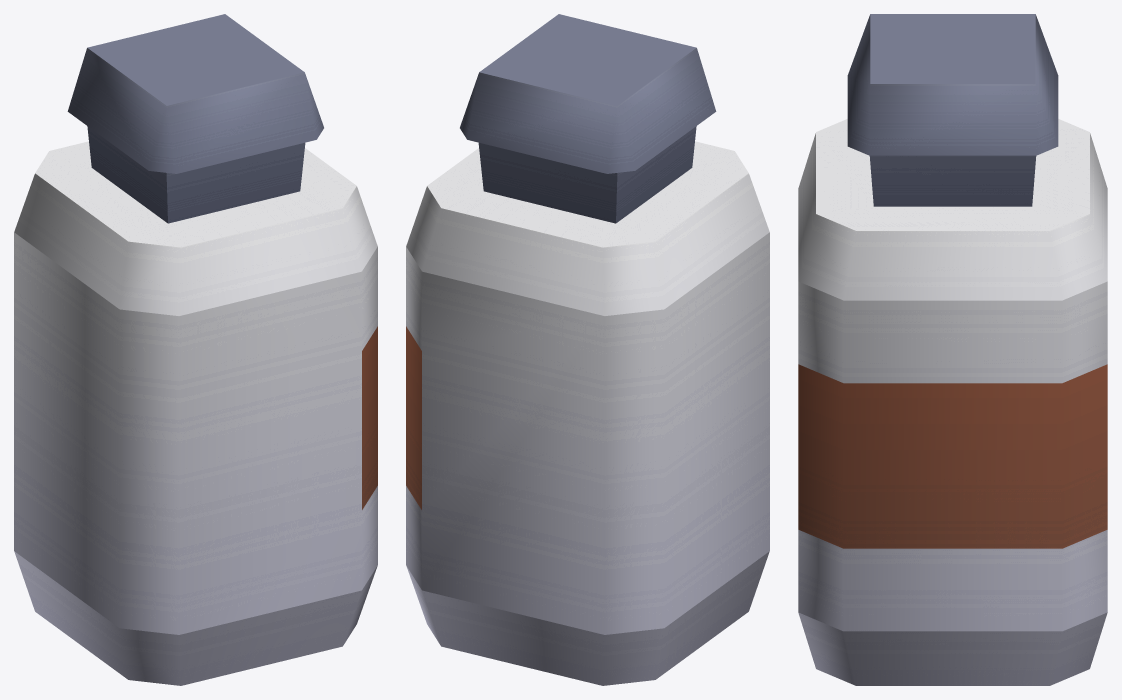
File: shaker-pepper.glb
The picture shows the model from 3 angles, left to right: view 1: azimuth 30°, elevation 25°; view 2: azimuth 150°, elevation 25°; view 3: azimuth 270°, elevation 25°; orthographic projection. The views are drawn at different scales.
Parts seen in each view (by area): view 1: shaker-pepper; view 2: shaker-pepper; view 3: shaker-pepper.
Boxes of the visible parts, bbox=[...] form: shaker-pepper: bbox=[14, 14, 377, 685]; shaker-pepper: bbox=[406, 14, 769, 685]; shaker-pepper: bbox=[798, 14, 1107, 685].
Size of the model in its own units: 0.0949 by 0.196 by 0.0949.
Materials: 1 (1 with a texture image).
